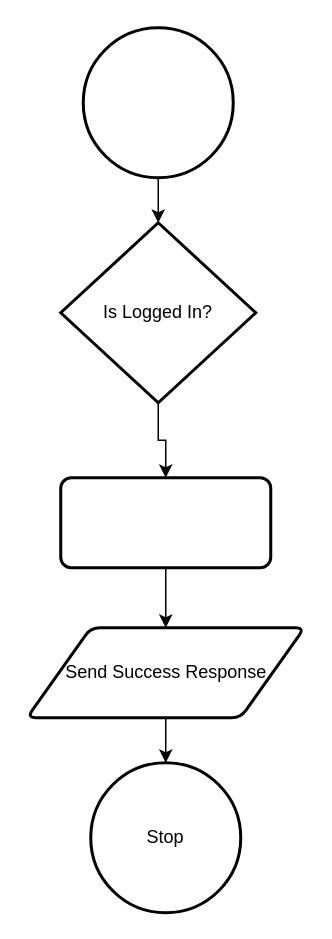
Some shapes in this 332 by 939 pixel diagram are drawn without their labels. The shapes that lost their labels are listed below. From the top down, each one's box as (x1, y1, x2, y2) in pixels, then its label:
(81, 26, 234, 178): Start
(58, 476, 272, 568): Delete JWT Cookines
